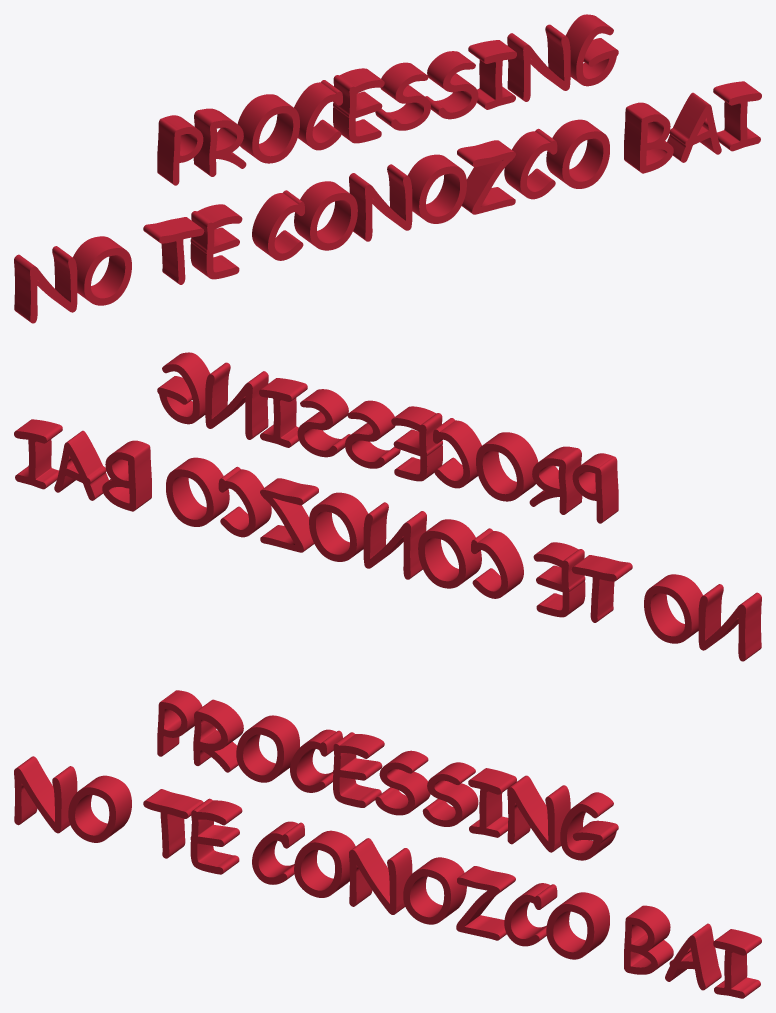
File: mari.obj
3 renders of one model, top to bottom at view 1: azimuth 30°, elevation 25°; view 2: azimuth 150°, elevation 25°; view 3: azimuth 330°, elevation 25°, orthographic.
Parts seen in each view (by area): view 1: Text_CUText; view 2: Text_CUText; view 3: Text_CUText.
Boxes of the visible parts, x1,y1,x2,y2 form: Text_CUText: [14, 14, 761, 323]; Text_CUText: [14, 352, 761, 661]; Text_CUText: [14, 690, 761, 998].
Size of the model in its own units: 5.3 by 1.11 by 0.2.
